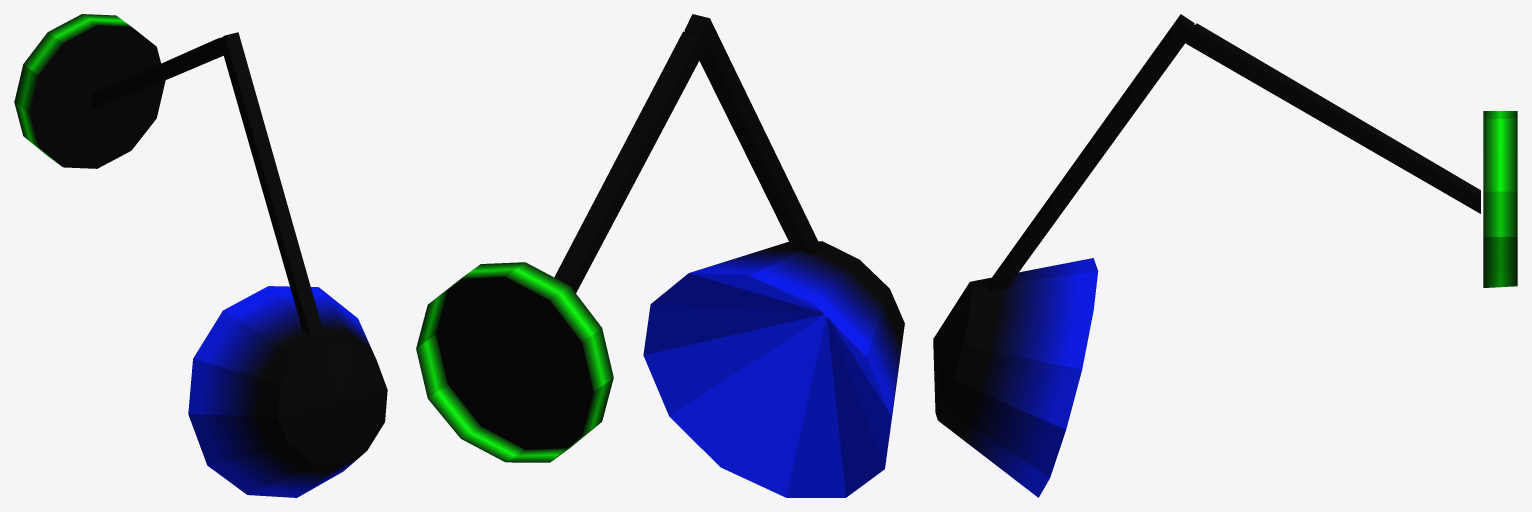
The model's file is lampe.fbx.
3 views of the same model, side by side, from view 1: azimuth 30°, elevation 25°; view 2: azimuth 150°, elevation 25°; view 3: azimuth 270°, elevation 25° (orthographic). The views are drawn at different scales.
Visible parts, largest first — view 1: base; view 2: base; view 3: base.
Boxes of the visible parts, box(x1,y1,x2,y2) form: base: box(14, 14, 387, 497); base: box(416, 14, 904, 497); base: box(933, 14, 1517, 497).
Size of the model in its own units: 0.2073 by 0.435 by 0.4919.
Materials: 1 (1 with a texture image).
